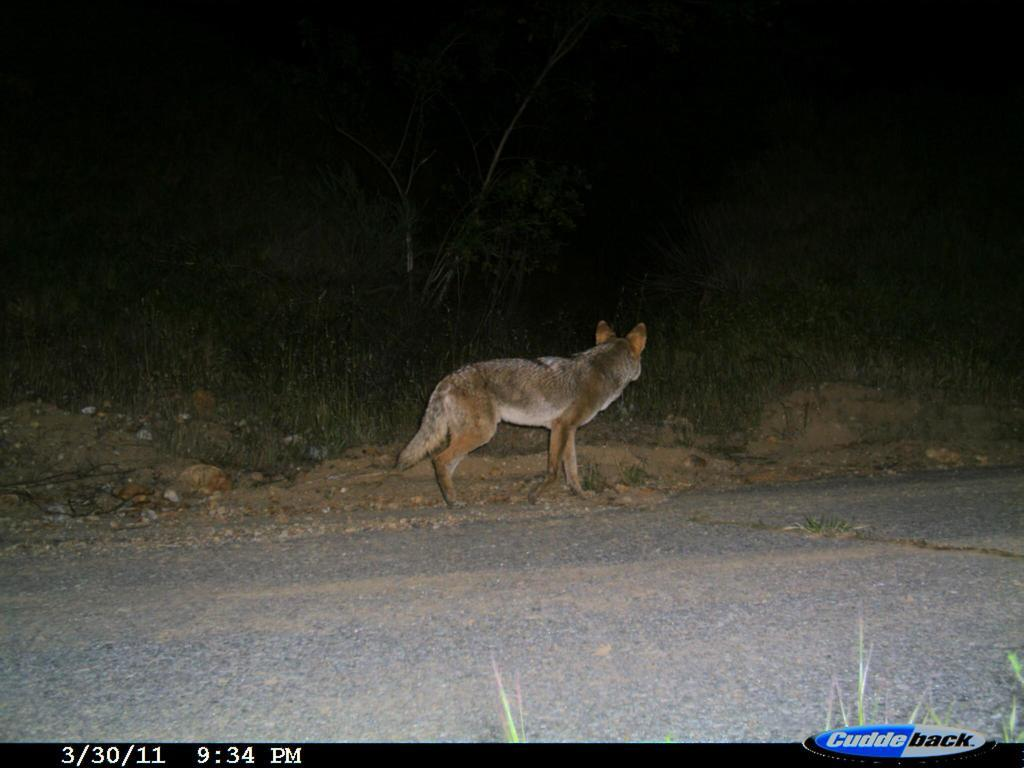coyote: (389, 309, 661, 518)
